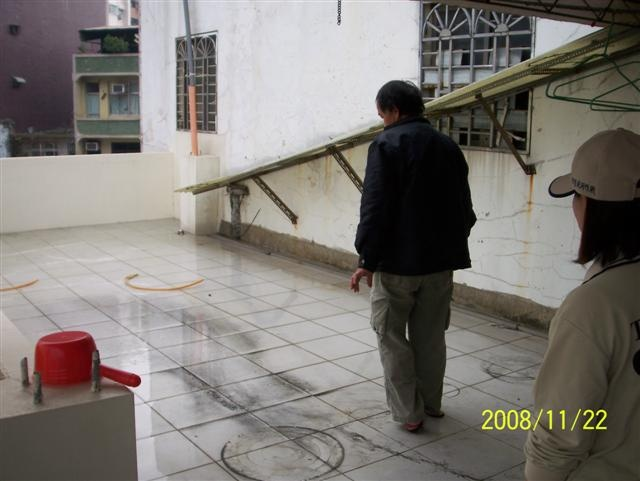bowl: (33, 331, 97, 386)
